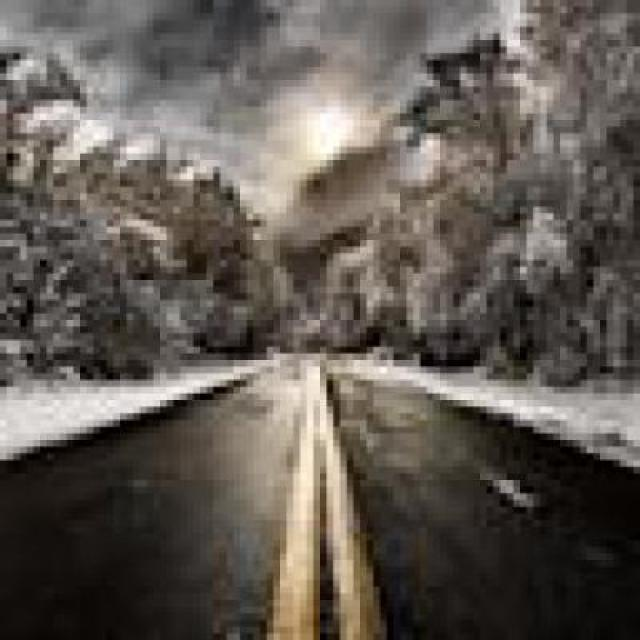ice-road: (0, 367, 300, 640), (333, 380, 640, 640)
